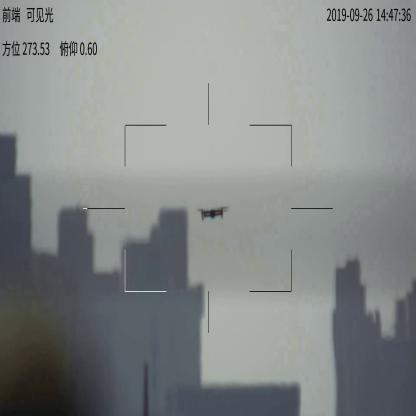uav: (195, 202, 229, 223)
